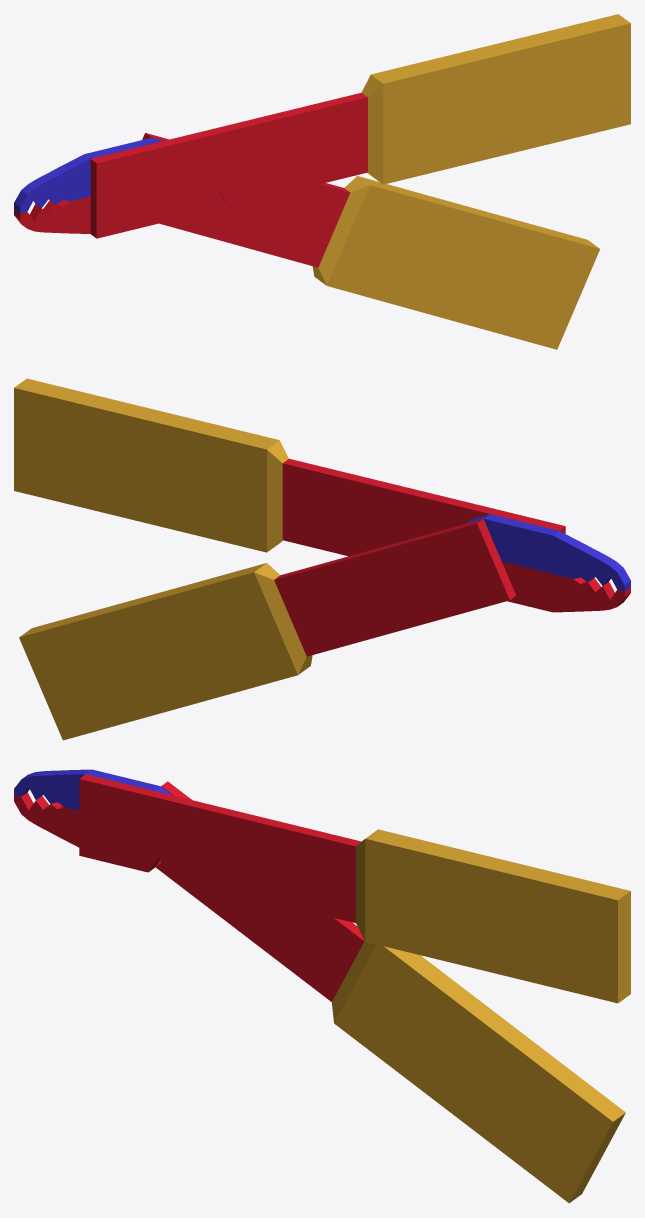
The model's file is un_stripper.fbx.
3 renders of one model, top to bottom at view 1: azimuth 30°, elevation 25°; view 2: azimuth 150°, elevation 25°; view 3: azimuth 330°, elevation 25°, orthographic. The views are drawn at different scales.
Visible parts, largest first — view 1: stripper_lower, stripper_upper; view 2: stripper_upper, stripper_lower; view 3: stripper_lower, stripper_upper.
Boxes of the visible parts, x1,y1,x2,y2 form: stripper_lower: [14, 14, 630, 238]; stripper_upper: [14, 133, 599, 349]; stripper_upper: [19, 514, 630, 740]; stripper_lower: [14, 378, 630, 612]; stripper_lower: [14, 774, 630, 1003]; stripper_upper: [14, 769, 625, 1203].
Size of the model in its own units: 8.37 by 4.27 by 0.6139.
